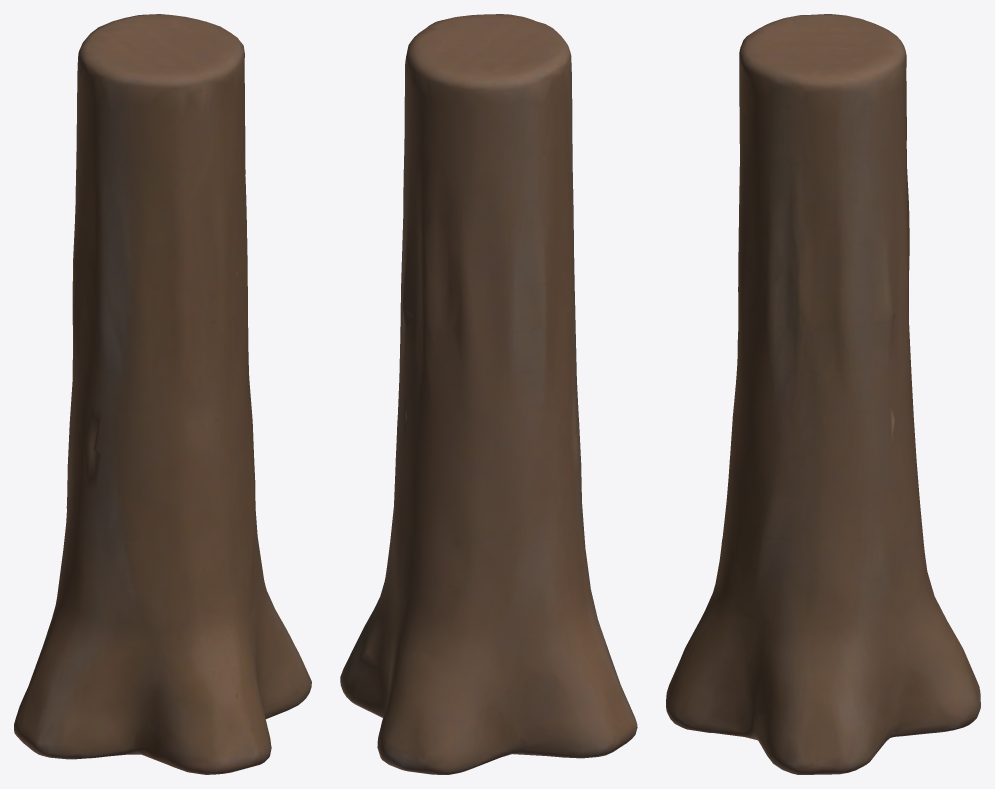
File: Log_Tiered_Evergreen.glb
The picture shows the model from 3 angles, left to right: view 1: azimuth 30°, elevation 25°; view 2: azimuth 150°, elevation 25°; view 3: azimuth 270°, elevation 25°; orthographic projection.
Bounding box in the file's own units: 0.857 × 2 × 0.8546.
Materials: 1 (1 with a texture image).
